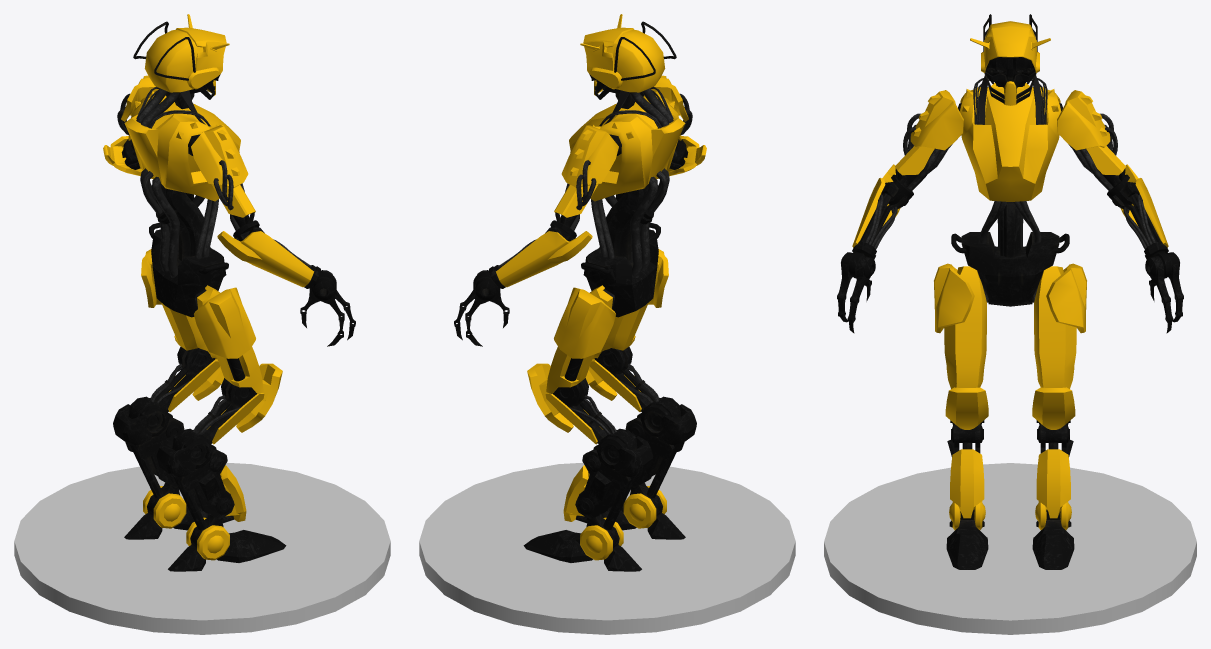
The model's file is robot7.fbx.
The picture shows the model from 3 angles, left to right: view 1: azimuth 30°, elevation 25°; view 2: azimuth 150°, elevation 25°; view 3: azimuth 270°, elevation 25°; orthographic projection.
Visible parts, largest first — view 1: Robot_Mesh, Ground; view 2: Robot_Mesh, Ground; view 3: Robot_Mesh, Ground.
Boxes of the visible parts, x1,y1,x2,y2 form: Robot_Mesh: (103,14,355,571); Ground: (14,462,390,634); Robot_Mesh: (454,14,706,571); Ground: (419,462,795,634); Robot_Mesh: (837,14,1183,569); Ground: (824,463,1196,634).
Size of the model in its own units: 1.17 by 1.83 by 1.17.
